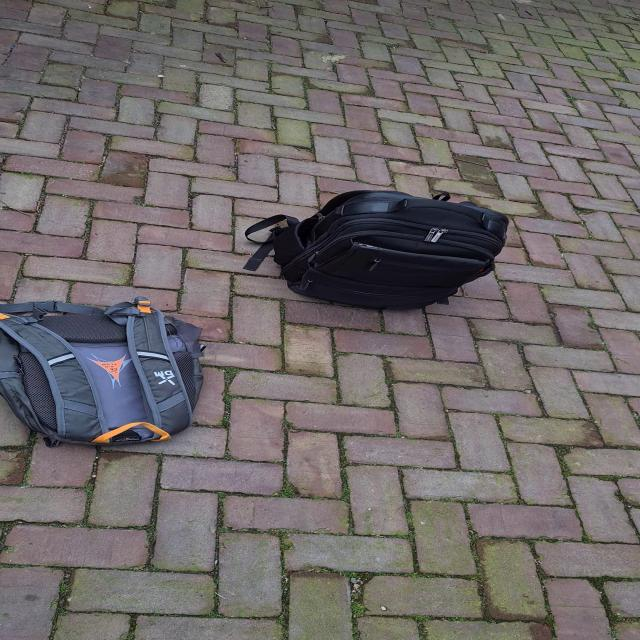backpack: (257, 185, 517, 313), (0, 293, 212, 447)
